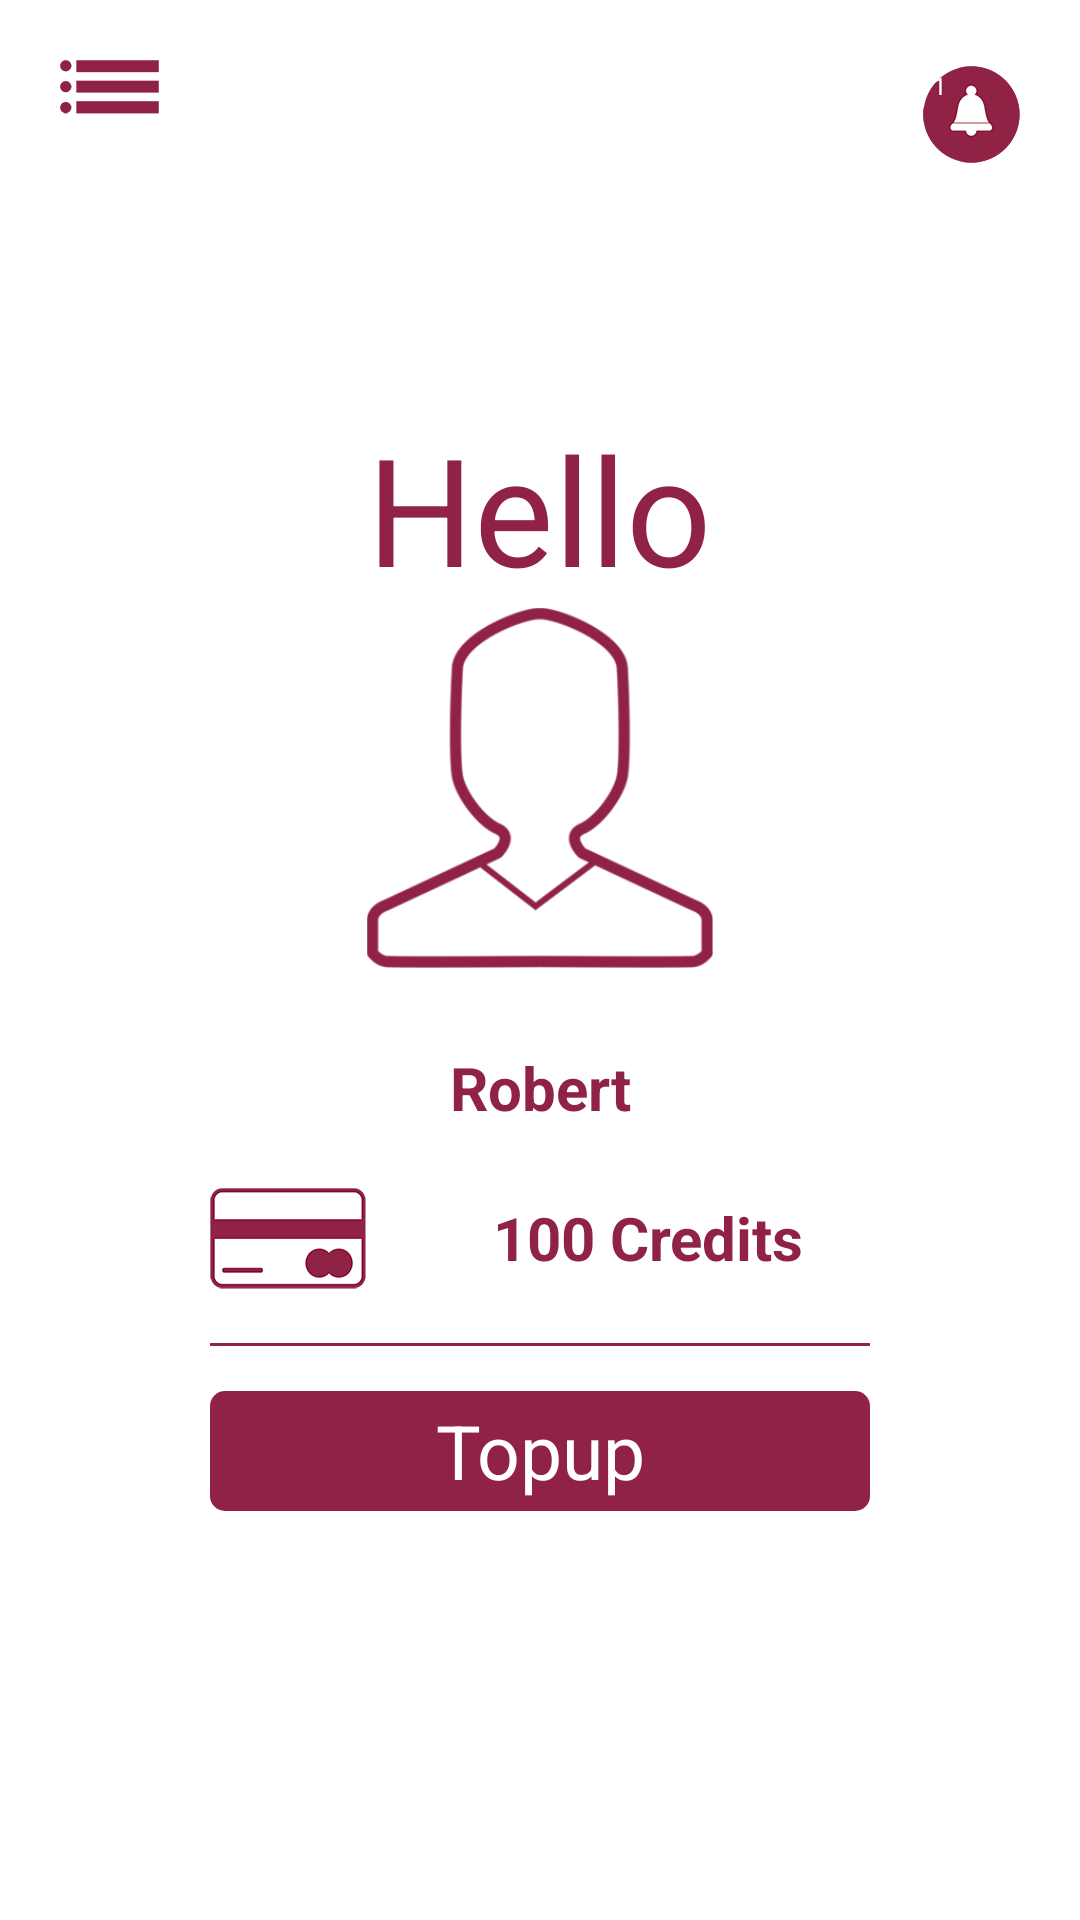

Where icons sit on this 1080 x 1920 app screen, as (x1, y1, x2, y2):
credit card: (210, 1188, 366, 1289)
drawer: (60, 60, 159, 114)
noty: (923, 66, 1020, 163)
